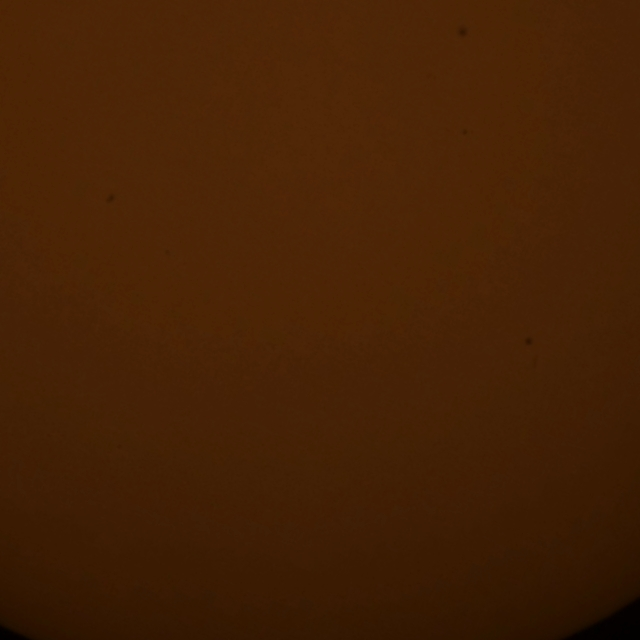sunspot: (455, 23, 470, 41), (104, 193, 116, 206), (522, 336, 534, 348)
